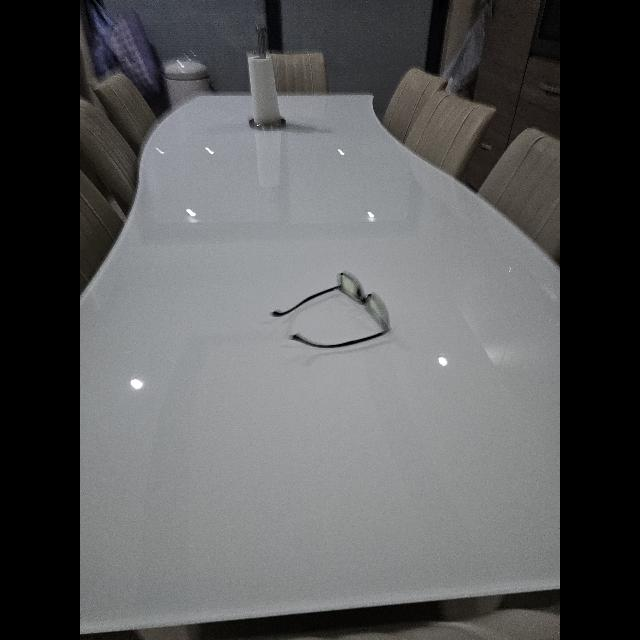glasses: (270, 272, 390, 348)
